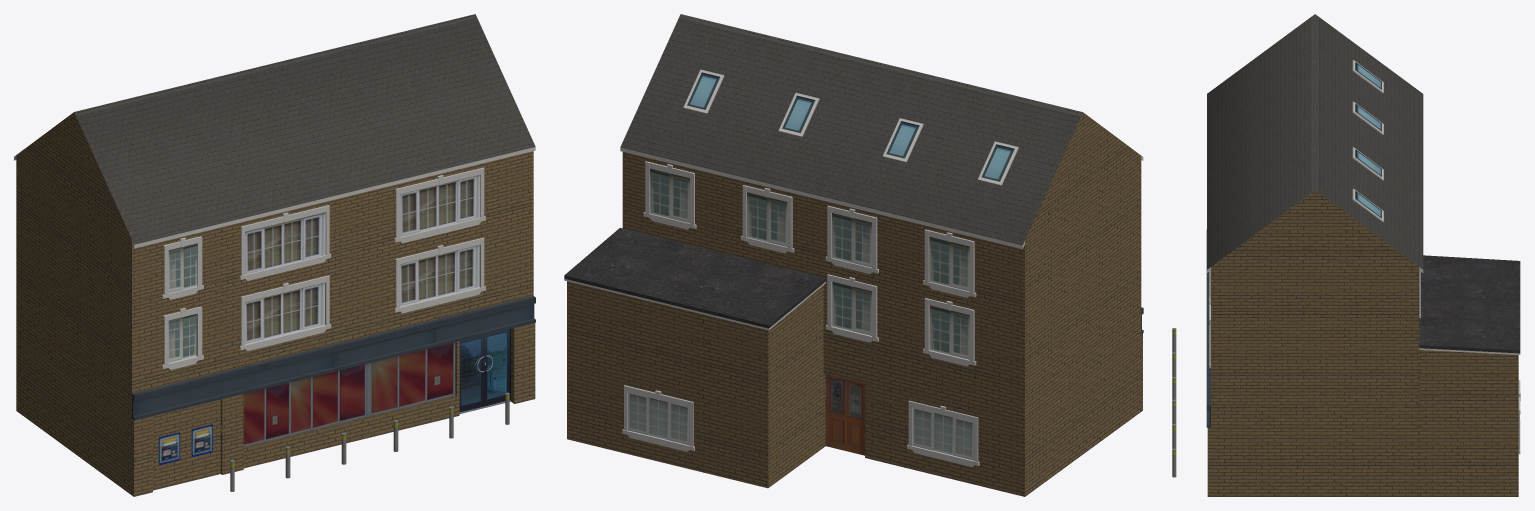
Rendered from ukcommercialfood11.FBX.
3 renders of one model, left to right at view 1: azimuth 30°, elevation 25°; view 2: azimuth 150°, elevation 25°; view 3: azimuth 270°, elevation 25°, orthographic. The views are drawn at different scales.
Visible parts, largest first — view 1: Box002; view 2: Box002; view 3: Box002.
Boxes of the visible parts, left/top/right/bottom form: Box002: left=14, top=14, right=535, bottom=496; Box002: left=564, top=14, right=1143, bottom=496; Box002: left=1172, top=14, right=1520, bottom=496.
Bounding box in the file's own units: 1610 × 1300 × 1337.
